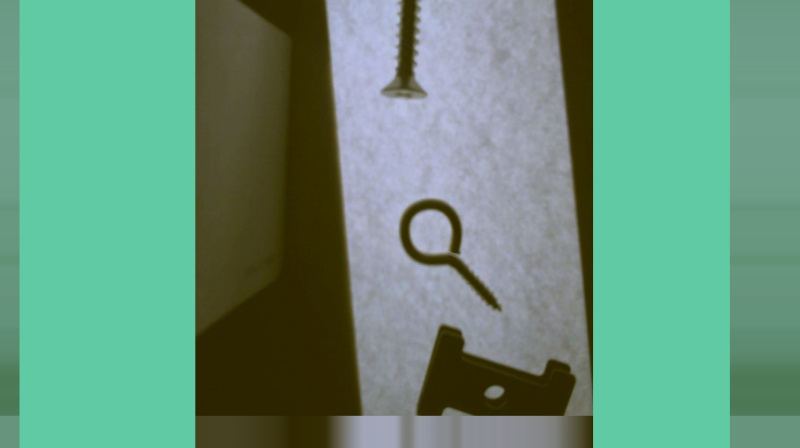O001: (395, 192, 502, 314)
O002: (418, 323, 577, 447)
S001: (380, 0, 434, 102)
